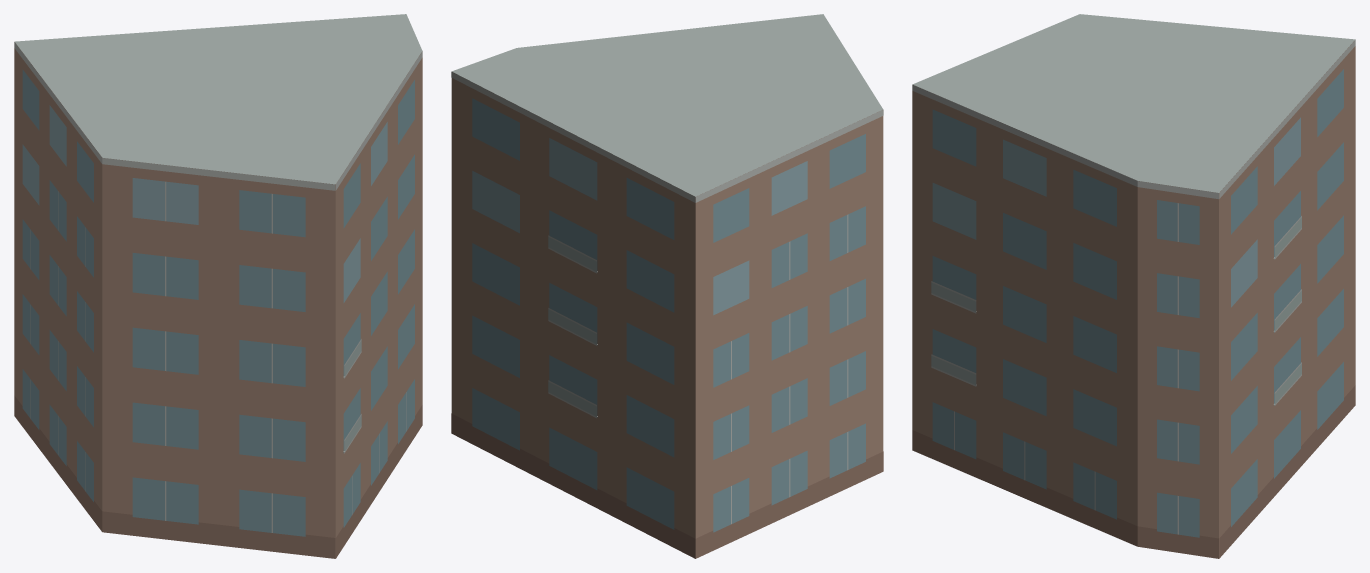
The model's file is survey-upis-32939354.glb.
3 renders of one model, left to right at view 1: azimuth 30°, elevation 25°; view 2: azimuth 150°, elevation 25°; view 3: azimuth 270°, elevation 25°, orthographic. The views are drawn at different scales.
Parts seen in each view (by area): view 1: survey-upis-32939354.tmp; view 2: survey-upis-32939354.tmp; view 3: survey-upis-32939354.tmp.
Boxes of the visible parts, left/top/right/bottom form: survey-upis-32939354.tmp: left=14, top=14, right=422, bottom=558; survey-upis-32939354.tmp: left=451, top=14, right=883, bottom=558; survey-upis-32939354.tmp: left=912, top=14, right=1355, bottom=558.
Bounding box in the file's own units: 14.91 × 14.2 × 15.6.
